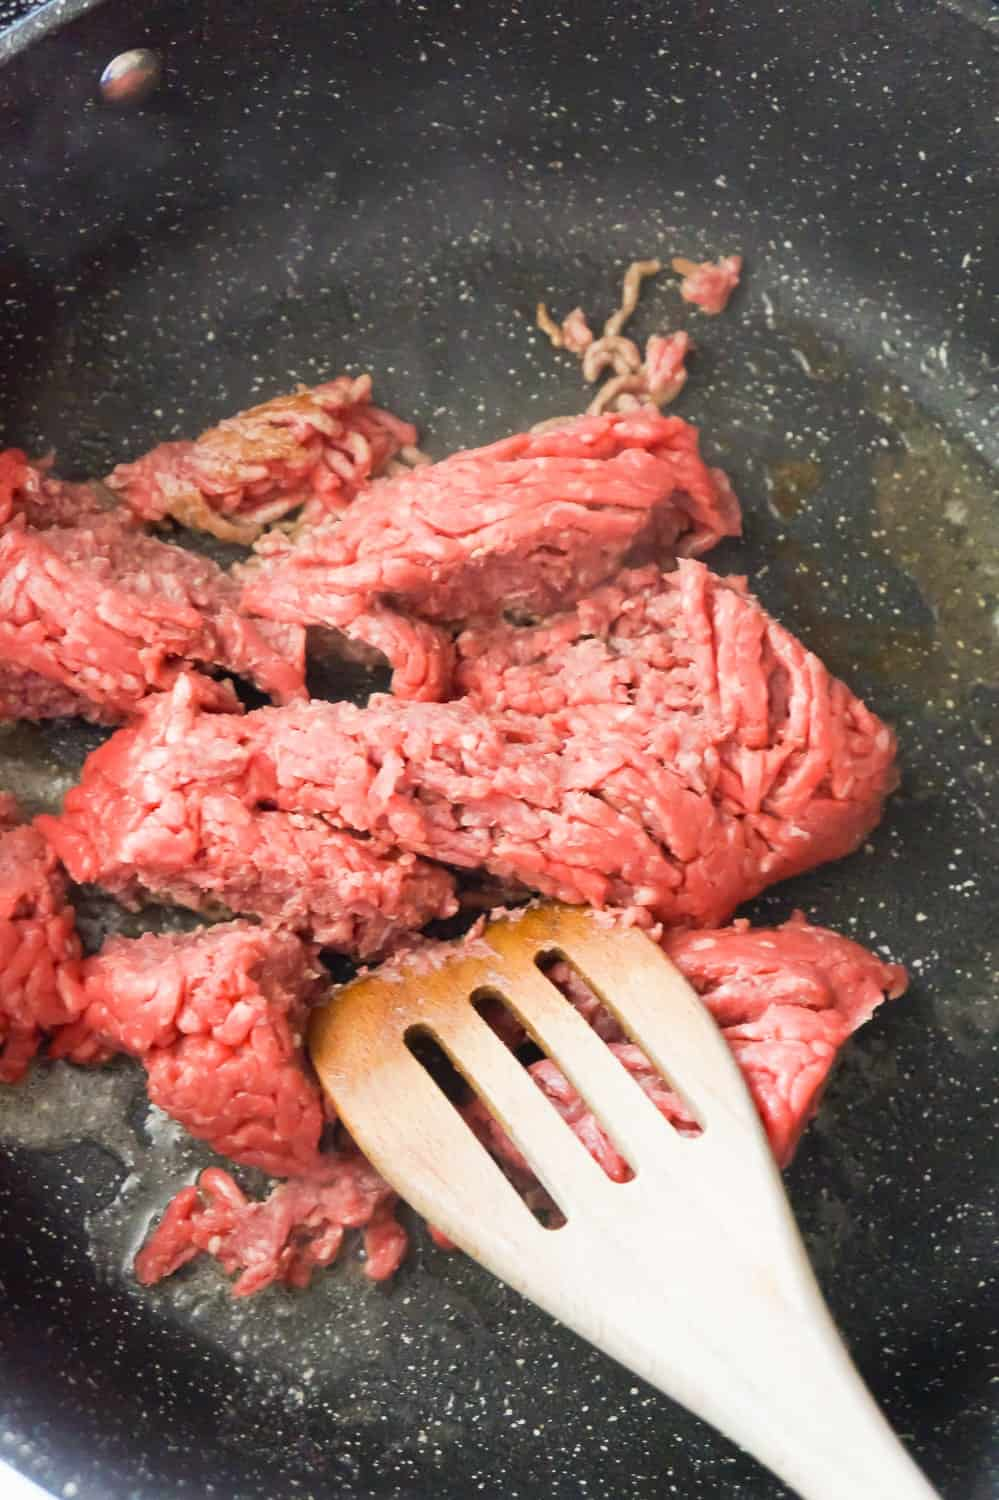ground_beef: (3, 629, 381, 1194), (272, 585, 941, 892), (234, 432, 751, 768)
